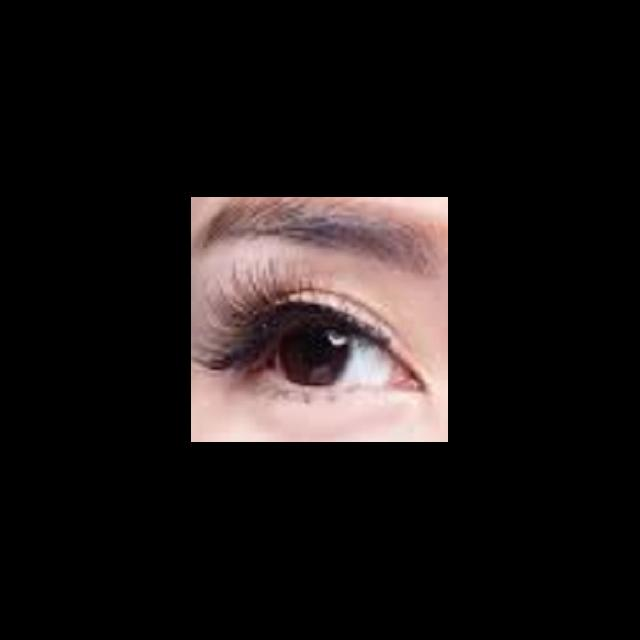eye: (274, 310, 394, 389)
iris: (280, 323, 350, 385)
